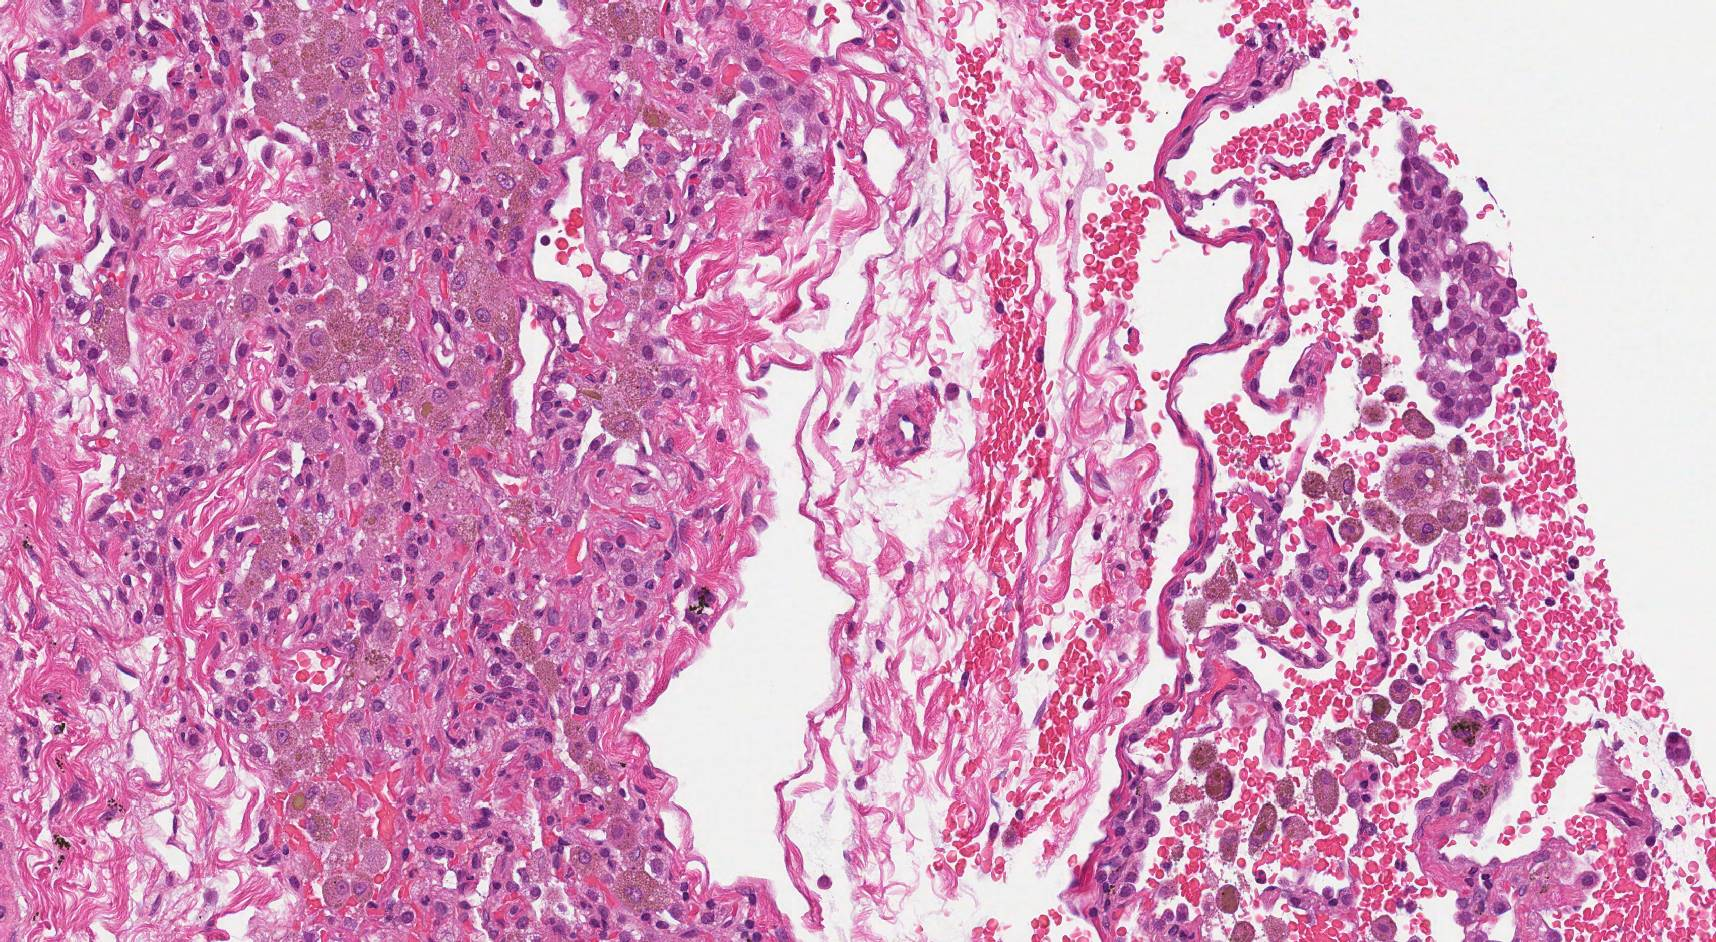stas: (1393, 124, 1522, 431)
